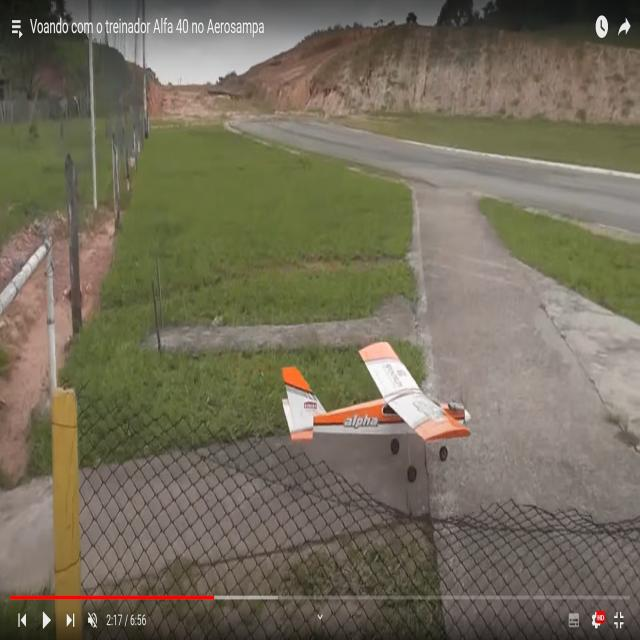iha: (280, 341, 473, 484)
